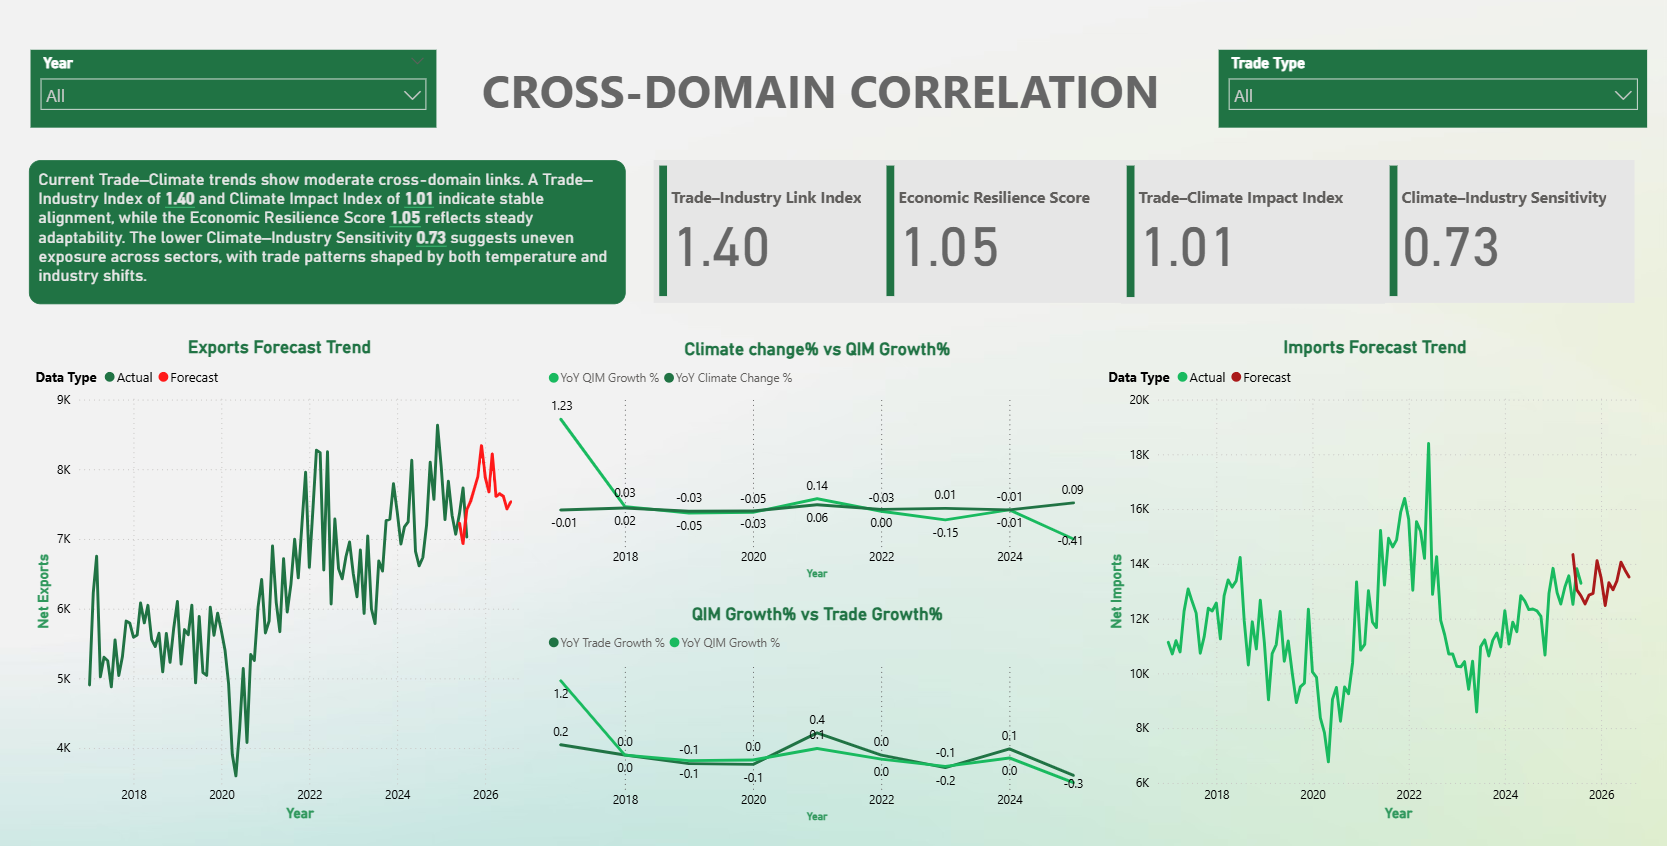

Layout of this report page (visuals, bound fields, positions):
{"tool":"powerbi","page":{"name":"CROSS-DOMAIN CORRELATION","canvas":[1720,880],"ordinal":4},"visuals":[{"type":"cardVisual","fields":{"Data":["Dim_Date.Climate–Industry Sensitivity"]},"box":[1423.3,170,256.7,146.7],"z":0},{"type":"cardVisual","fields":{"Data":["Dim_Date.Trade–Industry Link Index"]},"box":[673.3,170,233.3,146.7],"z":1000},{"type":"cardVisual","fields":{"Data":["Dim_Date.Economic Resilience Score"]},"box":[906.7,170,246.7,146.7],"z":2000},{"type":"cardVisual","fields":{"Data":["Dim_Date.Trade–Climate Impact Index"]},"box":[1152.5,170,270,147.5],"z":3000},{"type":"slicer","fields":{"Values":["Dim_Date.Year"]},"box":[33.3,56.7,416.7,80],"z":4000},{"type":"slicer","fields":{"Values":["Dim_TradeType.Trade Type"]},"box":[1253.3,56.7,440,80],"z":5000},{"type":"shape","box":[483.3,23.3,723.3,146.7],"z":6000},{"type":"lineChart","title":" Exports Forecast Trend","fields":{"Y":["Sum(script_df.Exports)"],"Series":["script_df.Data_Type"],"Category":["script_df.Month"]},"box":[33,351.9,511.3,501.6],"z":7000},{"type":"lineChart","title":"Imports Forecast Trend","fields":{"Y":["Sum(script_df.Imports)"],"Series":["script_df.Data_Type"],"Category":["script_df.Month"]},"box":[1135.3,351.9,558,501.6],"z":8000},{"type":"lineChart","title":"Climate change% vs QIM Growth%","fields":{"Category":["Dim_Date.Year"],"Y":["Dim_Date.YoY QIM Growth %","Dim_Date.YoY Climate Change %"]},"box":[560,352.5,562.5,252.5],"z":9000},{"type":"lineChart","title":" QIM Growth% vs Trade Growth%","fields":{"Category":["Dim_Date.Year"],"Y":["Dim_Date.YoY Trade Growth %","Dim_Date.YoY QIM Growth %"]},"box":[560,625,562.5,230],"z":10000},{"type":"textbox","box":[32.3,170,613.1,147.7],"z":11000}]}

Visuals, with their boxes in screenshot pixels (x1, y1, x2, y2), scaled from the page's 1720x880 canvas onto the 1667x846 screenshot:
cardVisual - Dim_Date.Climate–Industry Sensitivity: bbox=(1379, 163, 1628, 304)
cardVisual - Dim_Date.Trade–Industry Link Index: bbox=(653, 163, 879, 304)
cardVisual - Dim_Date.Economic Resilience Score: bbox=(879, 163, 1118, 304)
cardVisual - Dim_Date.Trade–Climate Impact Index: bbox=(1117, 163, 1379, 305)
slicer - Dim_Date.Year: bbox=(32, 55, 436, 131)
slicer - Dim_TradeType.Trade Type: bbox=(1215, 55, 1641, 131)
shape: bbox=(468, 22, 1169, 163)
" Exports Forecast Trend" lineChart: bbox=(32, 338, 528, 821)
"Imports Forecast Trend" lineChart: bbox=(1100, 338, 1641, 821)
"Climate change% vs QIM Growth%" lineChart: bbox=(543, 339, 1088, 582)
" QIM Growth% vs Trade Growth%" lineChart: bbox=(543, 601, 1088, 822)
textbox: bbox=(31, 163, 626, 305)
